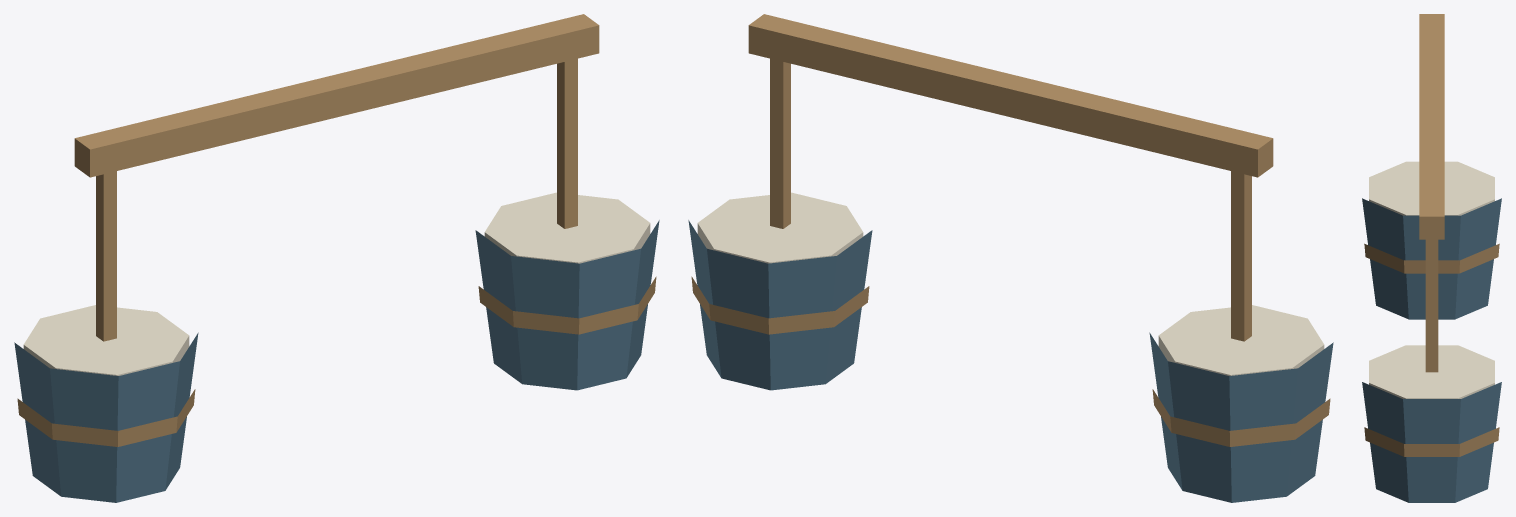
File: villager-cargo-water.glb
3 renders of one model, left to right at view 1: azimuth 30°, elevation 25°; view 2: azimuth 150°, elevation 25°; view 3: azimuth 270°, elevation 25°, orthographic. The views are drawn at different scales.
Visible parts, largest first — view 1: villager-cargo-water; view 2: villager-cargo-water; view 3: villager-cargo-water.
Boxes of the visible parts, x1,y1,x2,y2 form: villager-cargo-water: (14, 14, 659, 502); villager-cargo-water: (688, 14, 1333, 502); villager-cargo-water: (1362, 14, 1501, 502).
Size of the model in its own units: 2.27 by 1.19 by 0.5543.
1 material, 1 textured.
